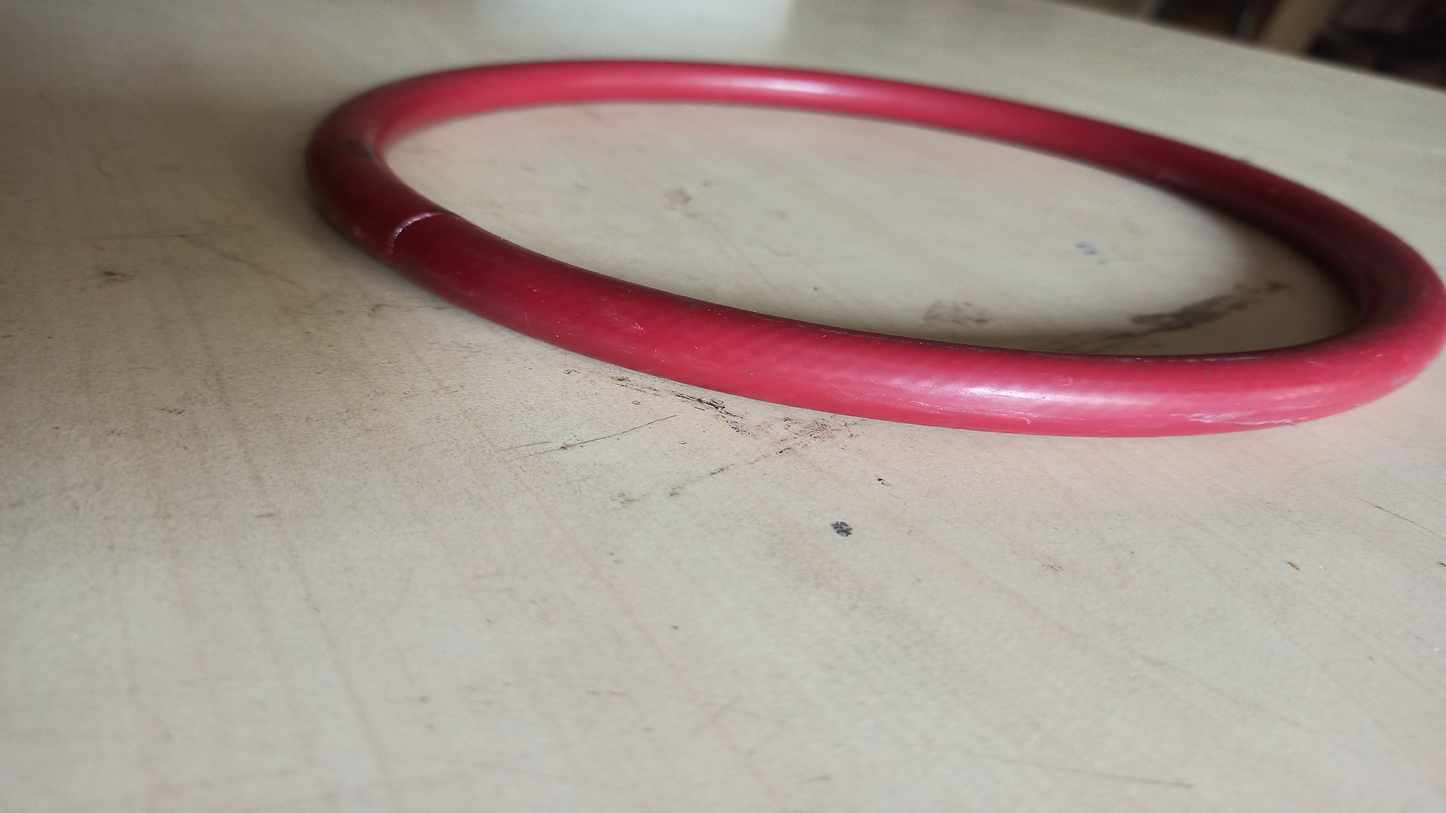Red ring: (322, 60, 1446, 437)
